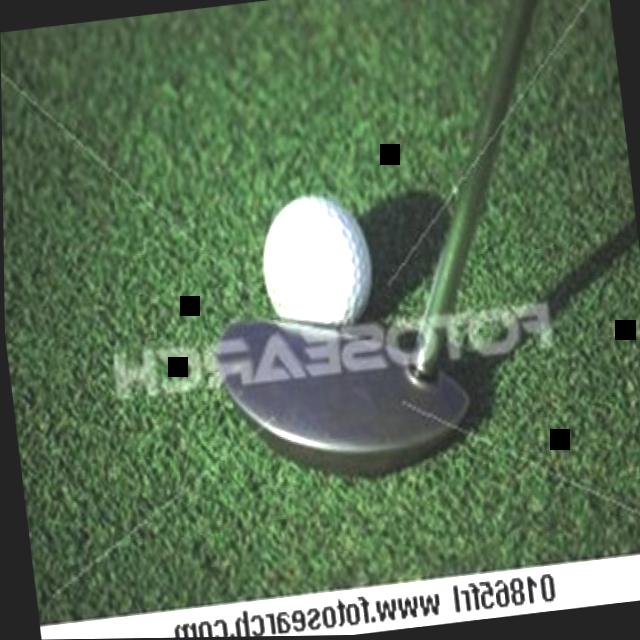golf ball: (242, 183, 387, 346)
